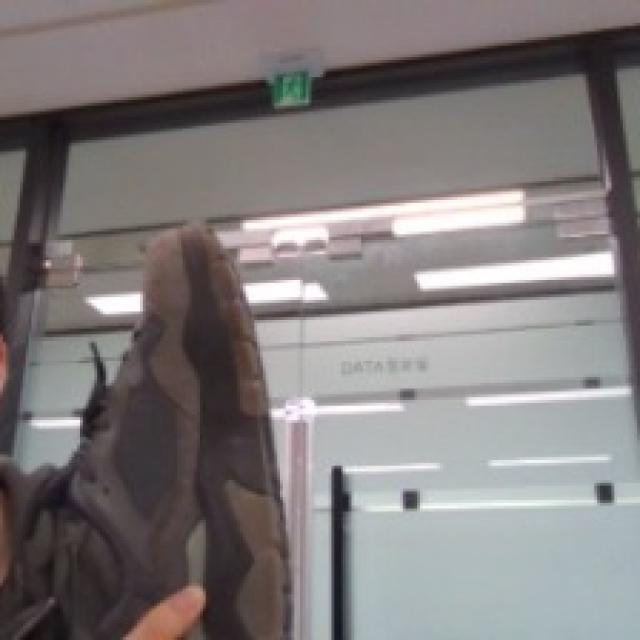shoe: (20, 164, 380, 640)
